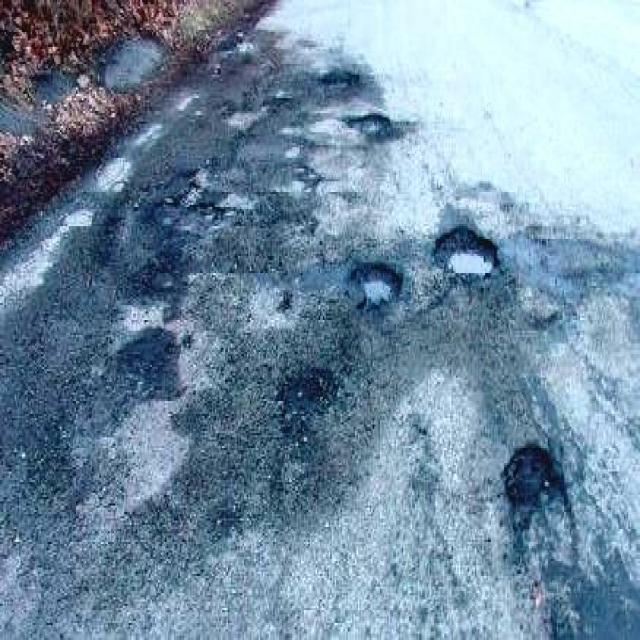pothole: (118, 326, 180, 399), (431, 220, 501, 277), (273, 365, 338, 418), (500, 442, 555, 504), (349, 254, 405, 311), (128, 250, 182, 296), (222, 102, 270, 134), (278, 166, 320, 200), (341, 109, 390, 134), (317, 66, 360, 92), (176, 179, 202, 205), (196, 201, 222, 224), (274, 285, 290, 319)
